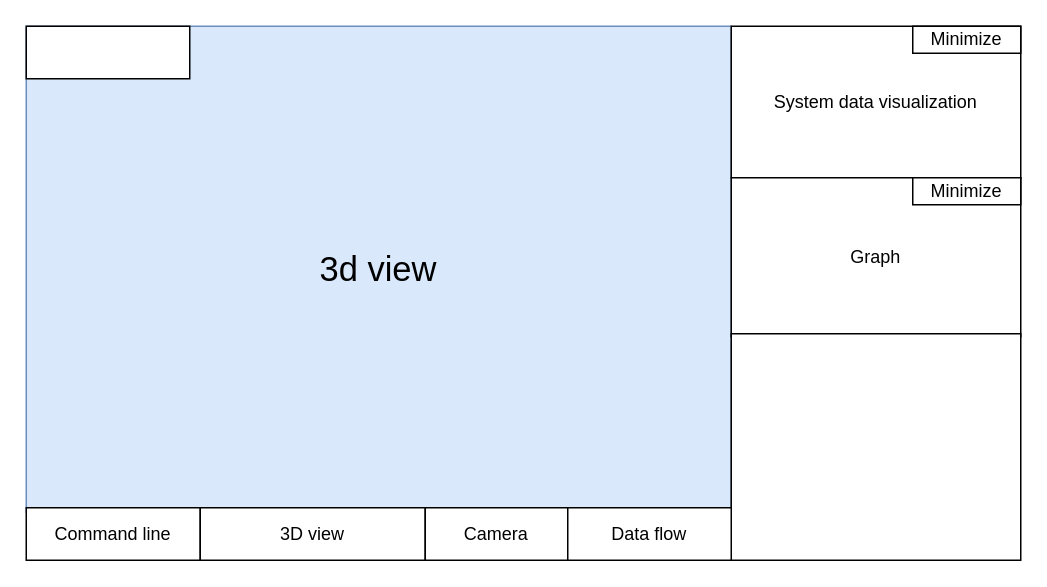
Some shapes in this 1047 by 587 pixel diagram are drawn without their labels. Each missing label, with the box of its shape:
Control menu: (730, 332, 1021, 560)
Logo: (25, 25, 190, 79)
